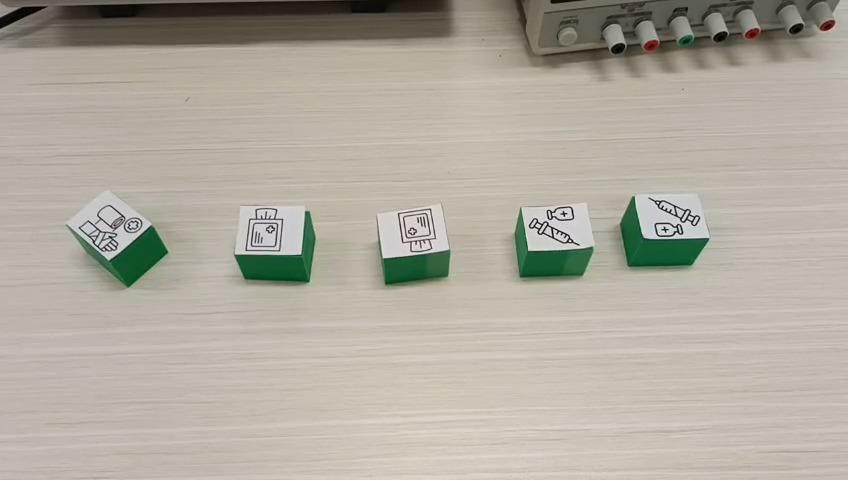Bandages: (63, 188, 167, 287)
Gauze: (375, 201, 451, 285), (234, 204, 316, 281)
antiseptic cream: (619, 190, 711, 266), (512, 202, 594, 277)
